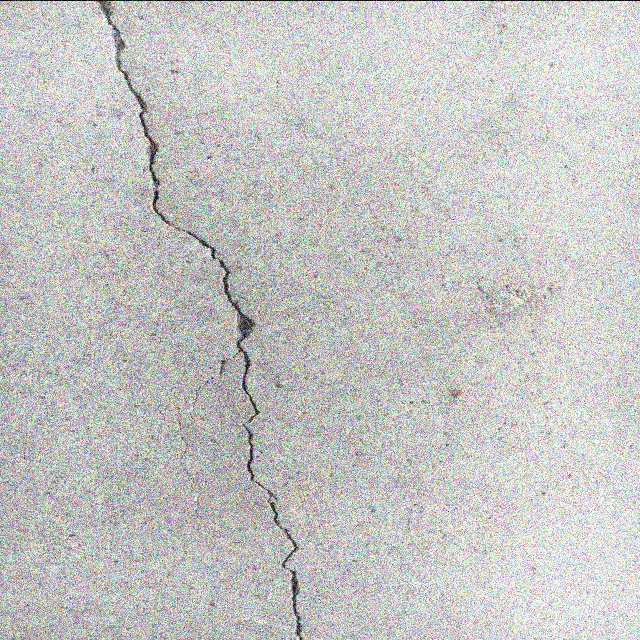SurfaceCrack: (87, 1, 352, 640)
